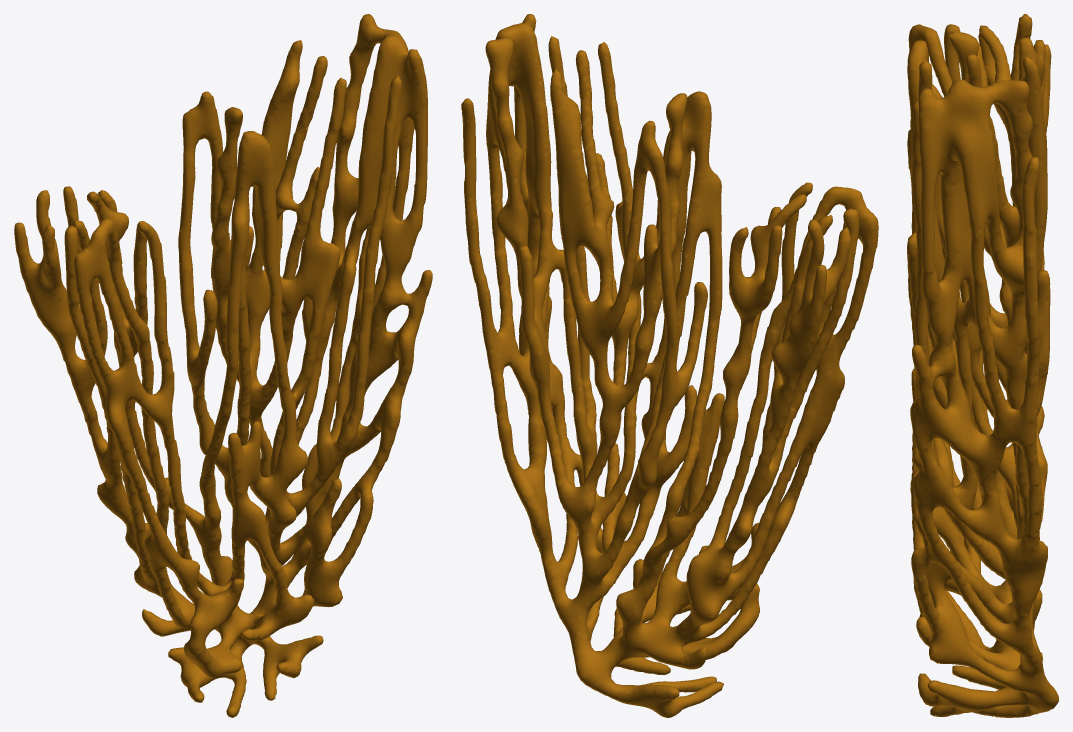
File: reed_coral.glb
3 renders of one model, left to right at view 1: azimuth 30°, elevation 25°; view 2: azimuth 150°, elevation 25°; view 3: azimuth 270°, elevation 25°, orthographic. The views are drawn at different scales.
Parts seen in each view (by area): view 1: tyMesher001_01 - Default_0; view 2: tyMesher001_01 - Default_0; view 3: tyMesher001_01 - Default_0.
Boxes of the visible parts, x1,y1,x2,y2 form: tyMesher001_01 - Default_0: (14, 14, 432, 717); tyMesher001_01 - Default_0: (461, 14, 878, 717); tyMesher001_01 - Default_0: (907, 14, 1058, 717).
Size of the model in its own units: 34.2 by 56.13 by 10.78.
